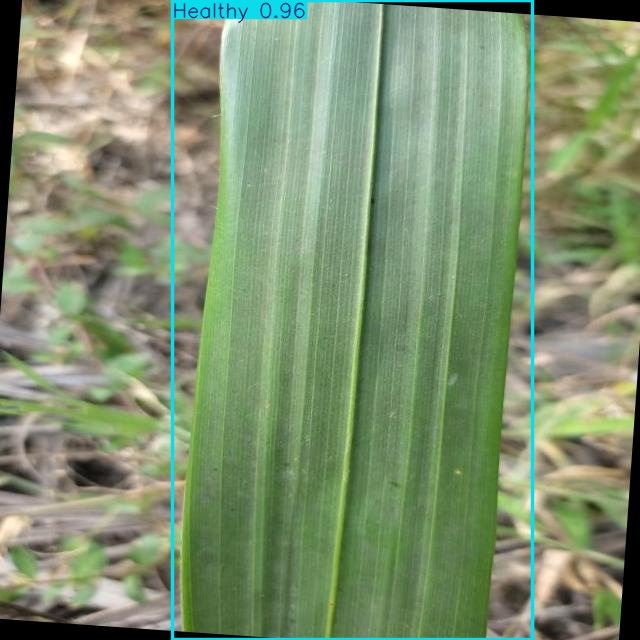Healthy: (173, 0, 532, 640)
